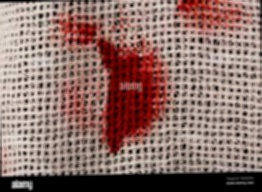blood: (100, 41, 168, 151), (174, 0, 221, 27), (62, 19, 98, 48)
